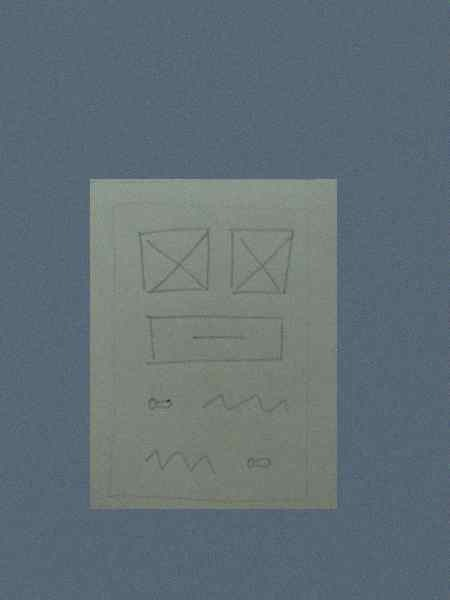button: (140, 310, 290, 367)
image: (132, 223, 214, 295), (225, 223, 296, 297)
switch: (240, 452, 278, 474), (144, 392, 178, 415)
text: (197, 384, 297, 418), (141, 445, 222, 480)
